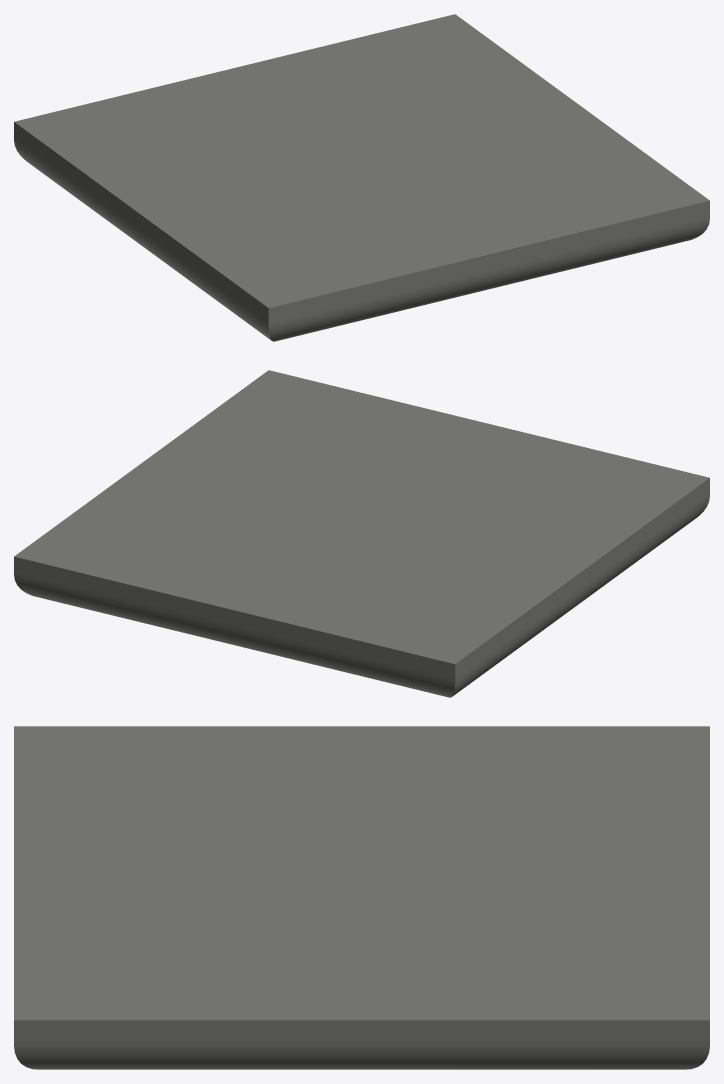
The model's file is Island-Base.obj.
3 renders of one model, top to bottom at view 1: azimuth 30°, elevation 25°; view 2: azimuth 150°, elevation 25°; view 3: azimuth 270°, elevation 25°, orthographic. The views are drawn at different scales.
Visible parts, largest first — view 1: Cube_Cube.003; view 2: Cube_Cube.003; view 3: Cube_Cube.003.
Part boxes in pixels (<box>): Cube_Cube.003: <box>14,14,709,341</box>; Cube_Cube.003: <box>14,370,709,697</box>; Cube_Cube.003: <box>14,726,709,1069</box>.
Size of the model in its own units: 20 by 2 by 20.
1 material, 1 textured.
